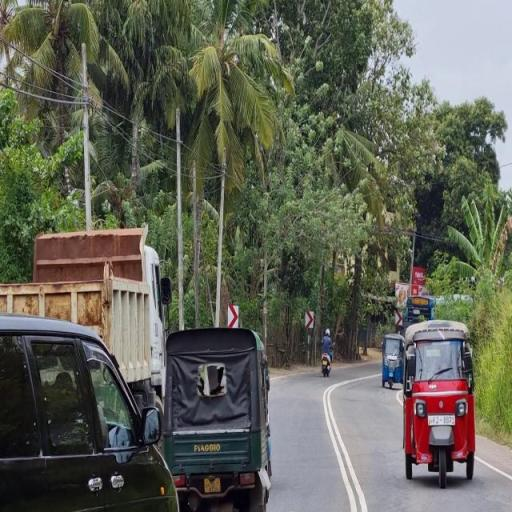double_white_line: (324, 378, 372, 510)
